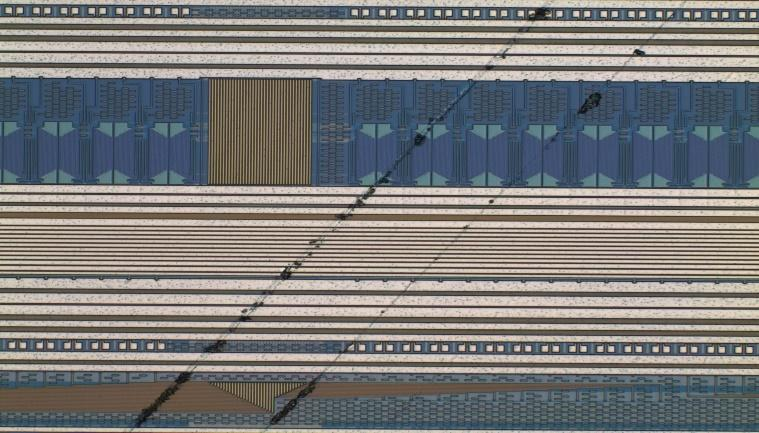SCRATCH: (259, 1, 702, 433), (120, 1, 561, 433)
